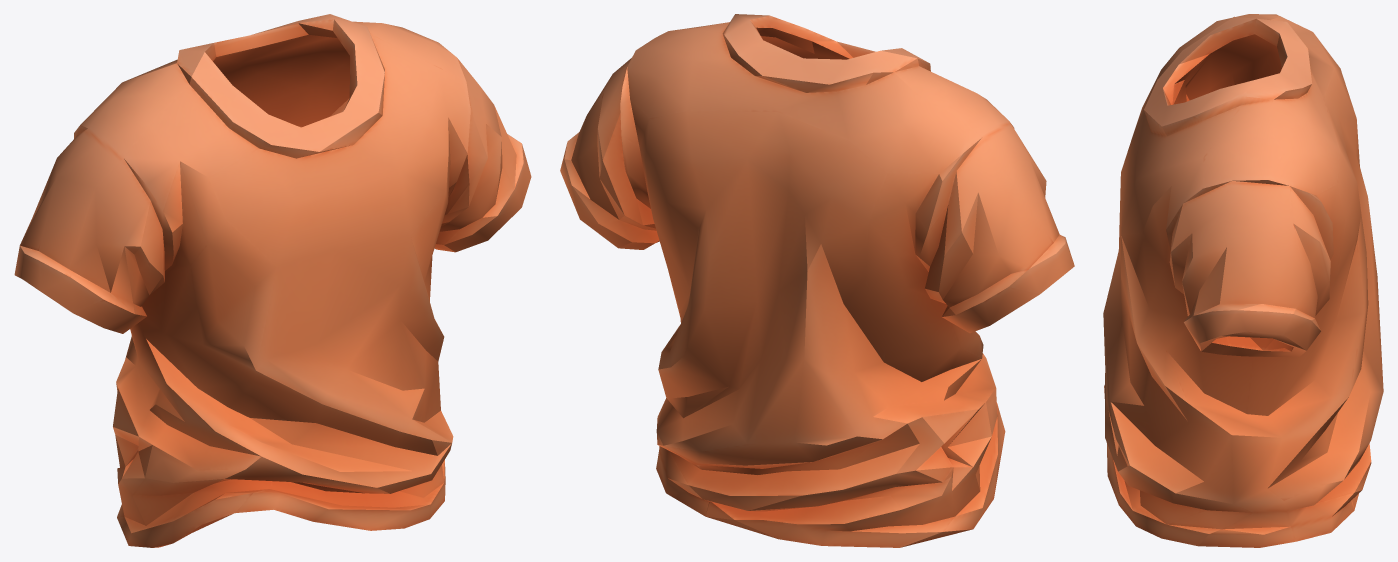
Rendered from TT_ShirtYellow.glb.
The picture shows the model from 3 angles, left to right: view 1: azimuth 30°, elevation 25°; view 2: azimuth 150°, elevation 25°; view 3: azimuth 270°, elevation 25°; orthographic projection. The views are drawn at different scales.
Parts seen in each view (by area): view 1: geometry_0; view 2: geometry_0; view 3: geometry_0.
Boxes of the visible parts, bbox=[...] form: geometry_0: bbox=[14, 14, 531, 547]; geometry_0: bbox=[560, 14, 1074, 547]; geometry_0: bbox=[1103, 14, 1383, 547].
Size of the model in its own units: 1 by 0.8962 by 0.5169.
1 material, 1 textured.
